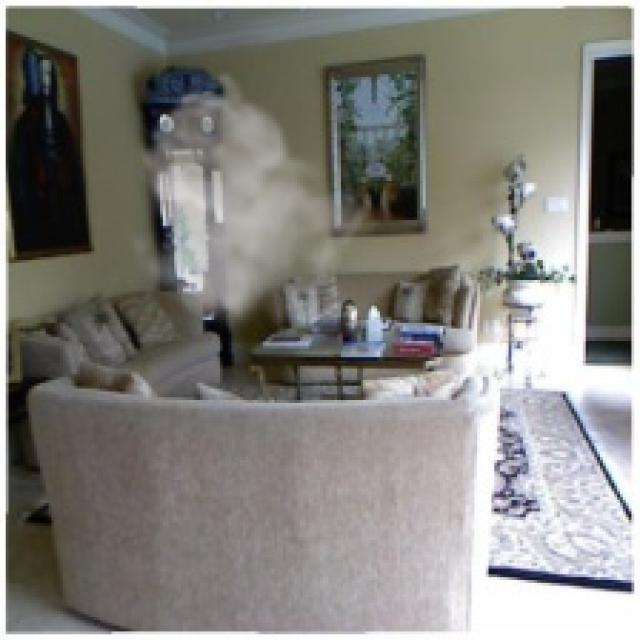Smoke: (114, 68, 386, 334)
